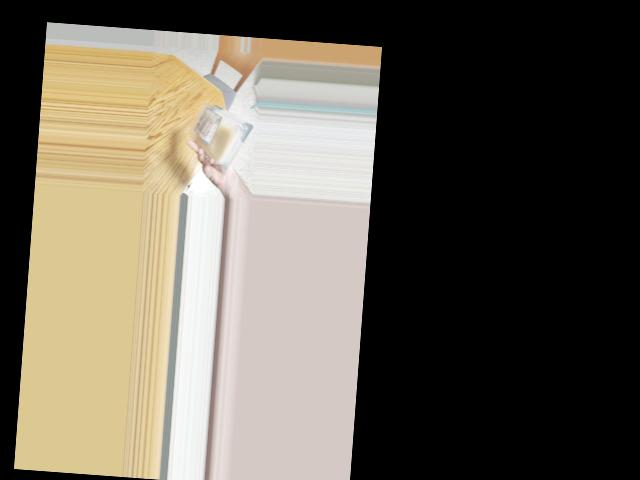cheese: (188, 98, 247, 169)
